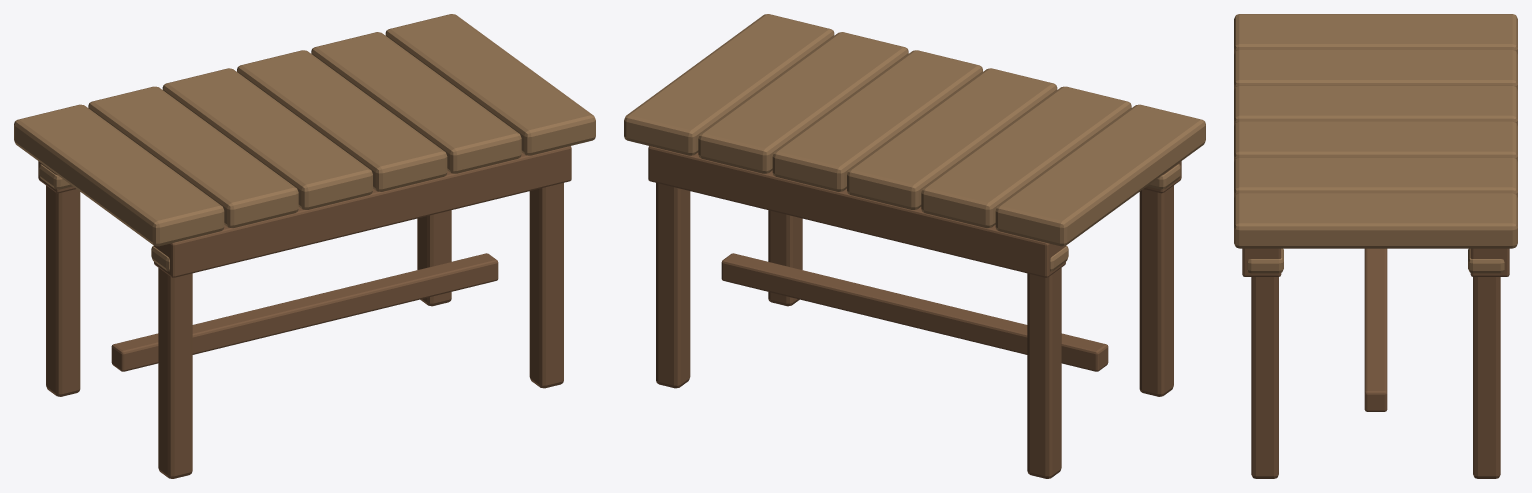
File: reading-table.glb
3 views of the same model, side by side, from view 1: azimuth 30°, elevation 25°; view 2: azimuth 150°, elevation 25°; view 3: azimuth 270°, elevation 25° (orthographic).
Parts seen in each view (by area): view 1: reading-table__Visual_matte; view 2: reading-table__Visual_matte; view 3: reading-table__Visual_matte.
Boxes of the visible parts, bbox=[...] form: reading-table__Visual_matte: bbox=[14, 14, 595, 478]; reading-table__Visual_matte: bbox=[624, 14, 1205, 478]; reading-table__Visual_matte: bbox=[1234, 14, 1517, 478].
Bounding box in the file's own units: 1.55 × 0.9025 × 0.87.
